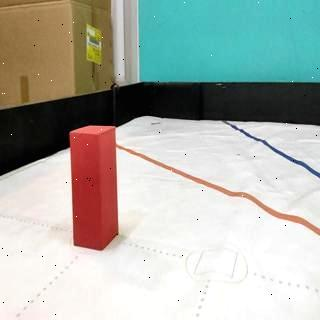redbox: (69, 125, 117, 251)
